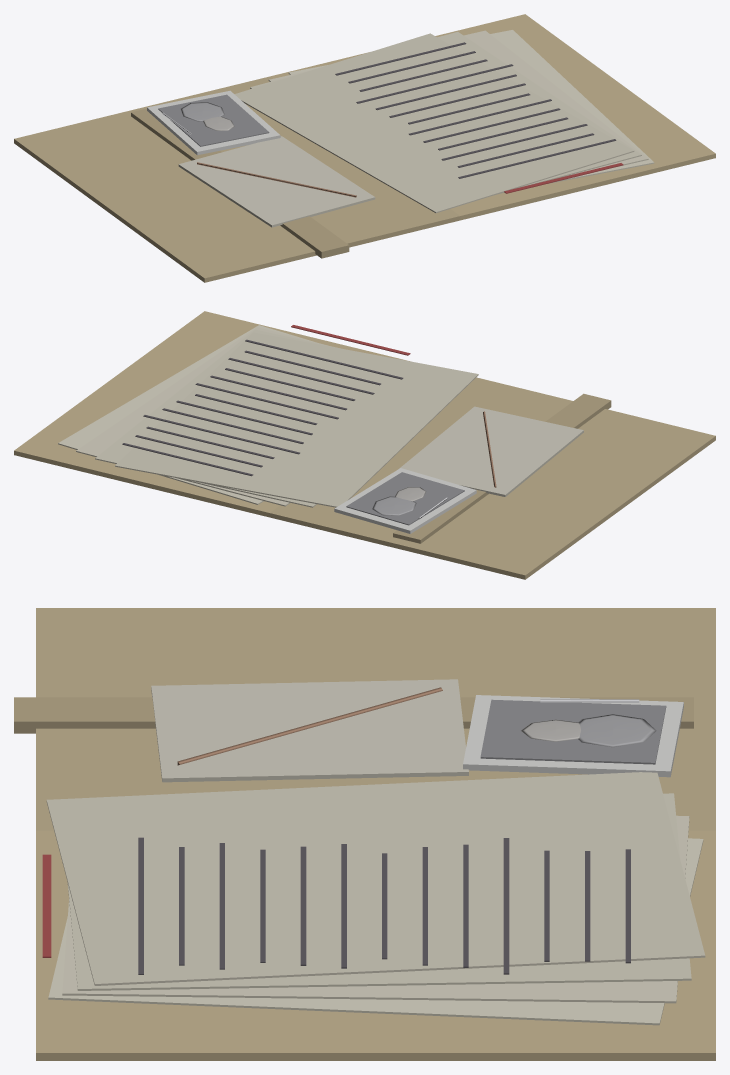
Rendered from cabin_case_file_a.glb.
3 renders of one model, top to bottom at view 1: azimuth 30°, elevation 25°; view 2: azimuth 150°, elevation 25°; view 3: azimuth 270°, elevation 25°, orthographic. The views are drawn at different scales.
Parts seen in each view (by area): view 1: body; view 2: body; view 3: body.
Part boxes in pixels (x1,y1,x2,y2): body: (14, 14, 715, 282); body: (14, 311, 715, 579); body: (14, 608, 715, 1060).
Bounding box in the file's own units: 0.48 × 0.0139 × 0.32.
